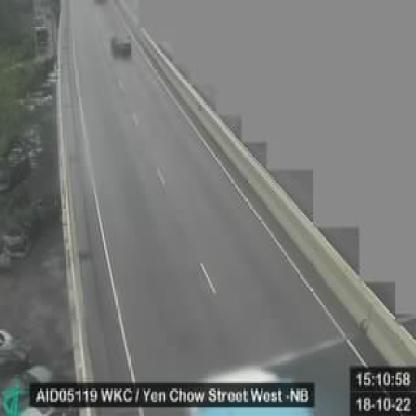Car: (109, 29, 134, 62)
